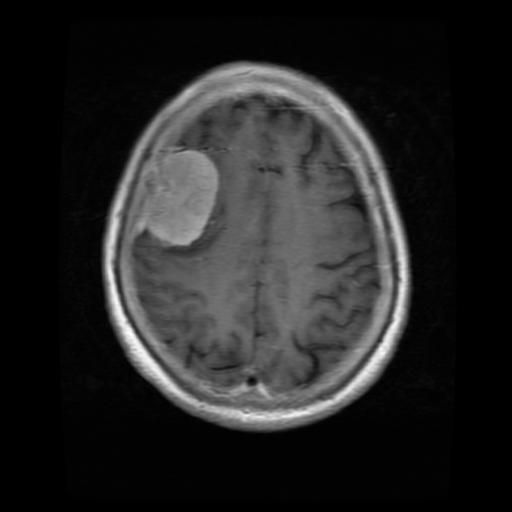Menigiomia_tumour: (144, 149, 216, 241)
